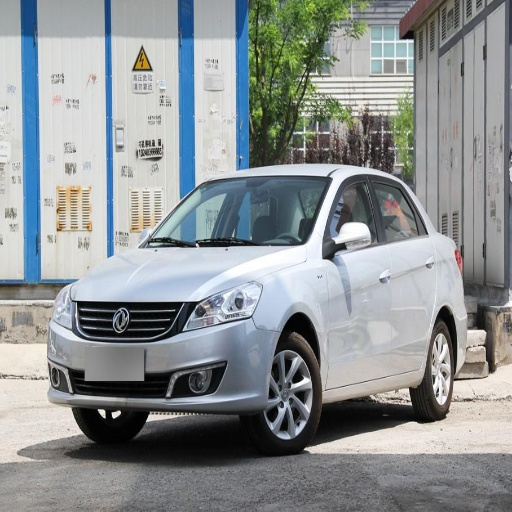back_left_door: (371, 174, 438, 374)
front_bumper: (51, 299, 280, 415)
front_glass: (140, 178, 330, 246)
front_left_door: (323, 174, 390, 388)
